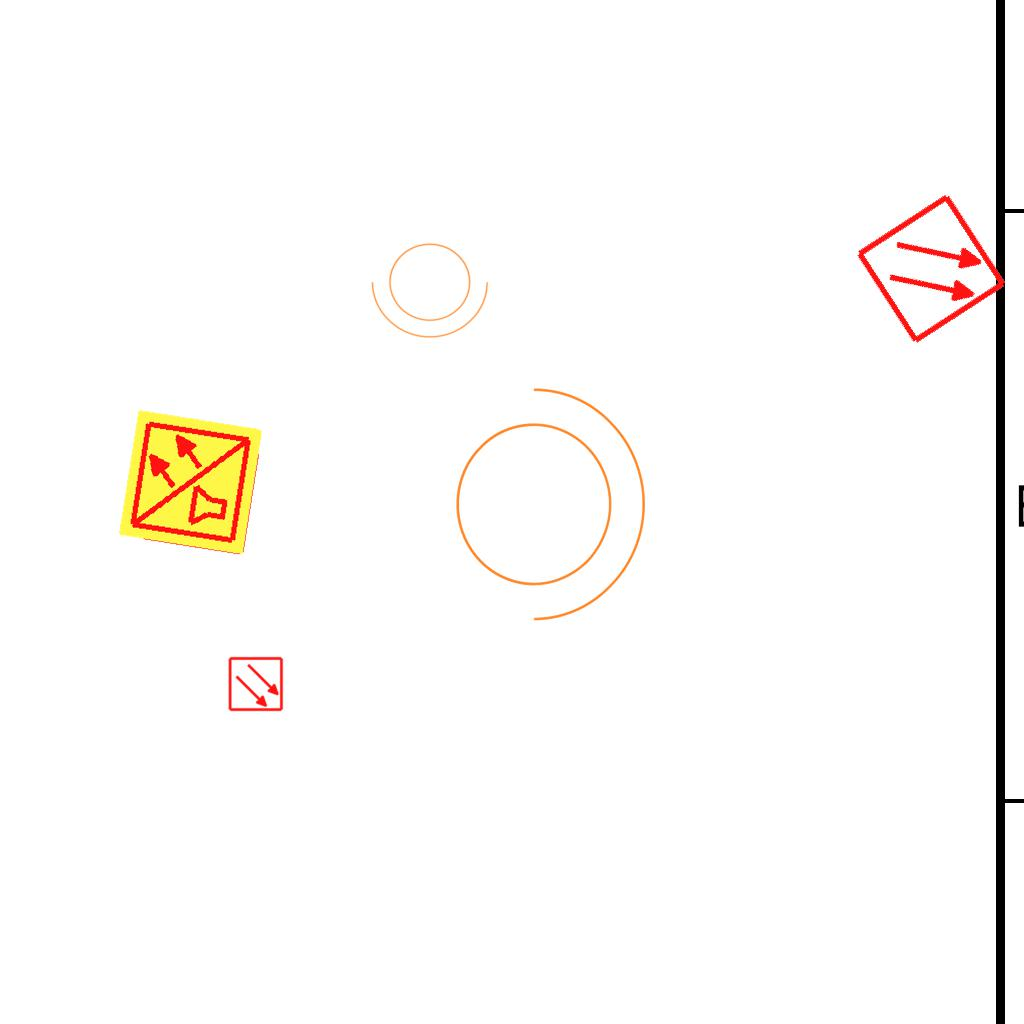OKW_Multisensormelder_(Kombination_optischer_Rauch-Kahlenmonoxid_Waerme-Melder): (115, 406, 267, 558)
RMO_Rauchmelder_optischer: (853, 190, 1010, 347), (228, 656, 284, 712)
Scheinwerfer_fuer_Alarmbeleuchtung: (431, 366, 656, 630), (367, 231, 499, 343)
